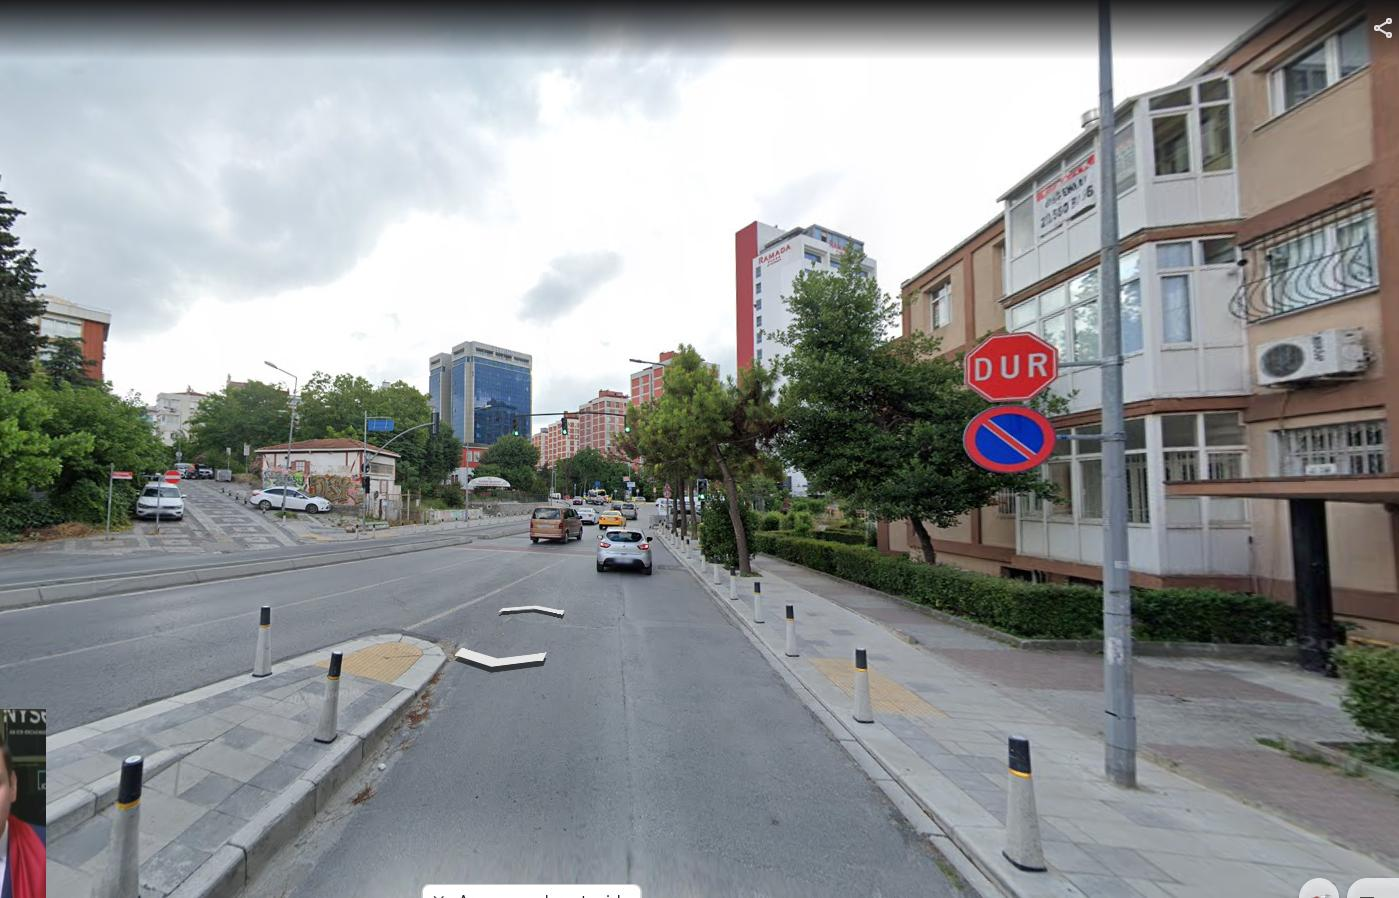greenlight: (698, 478, 707, 500), (560, 418, 569, 435), (511, 417, 518, 435), (624, 415, 631, 433)
nopark: (971, 408, 1049, 470)
stop: (963, 331, 1060, 400)
